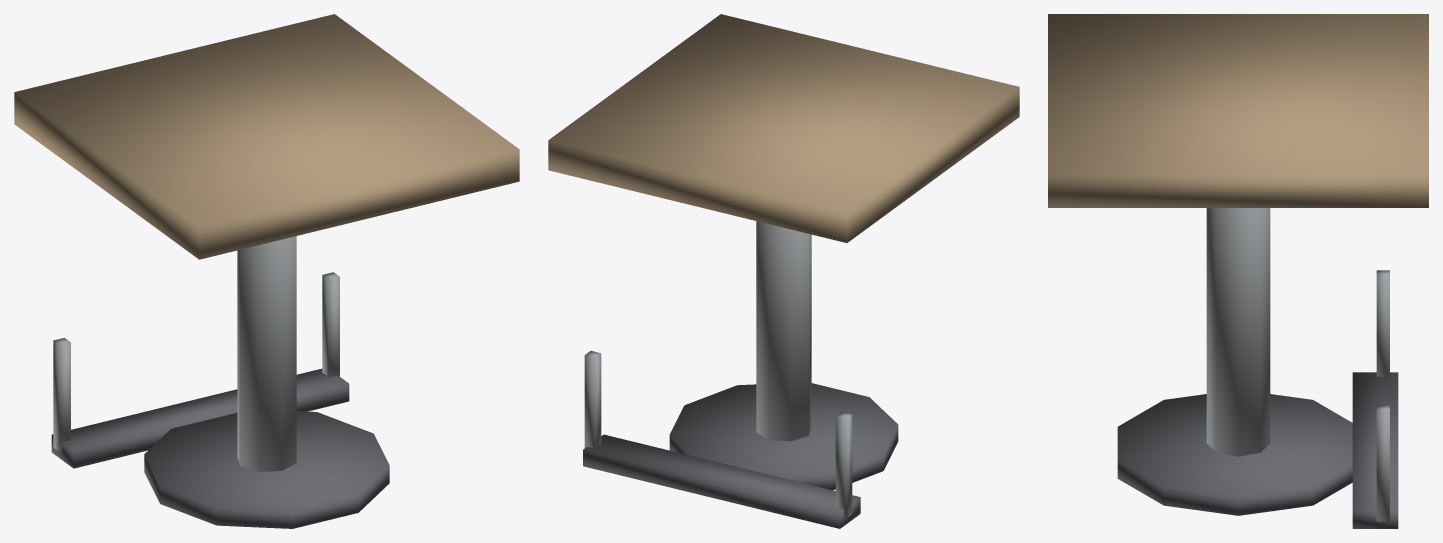
The model's file is diner_two_top__reinforced.glb.
3 views of the same model, side by side, from view 1: azimuth 30°, elevation 25°; view 2: azimuth 150°, elevation 25°; view 3: azimuth 270°, elevation 25° (orthographic). The views are drawn at different scales.
Parts seen in each view (by area): view 1: world; view 2: world; view 3: world.
Part boxes in pixels (left/top/right/bottom): world: left=14, top=14, right=519, bottom=528; world: left=548, top=14, right=1019, bottom=528; world: left=1048, top=14, right=1428, bottom=528.
Size of the model in its own units: 0.7416 by 0.7905 by 0.7416.
